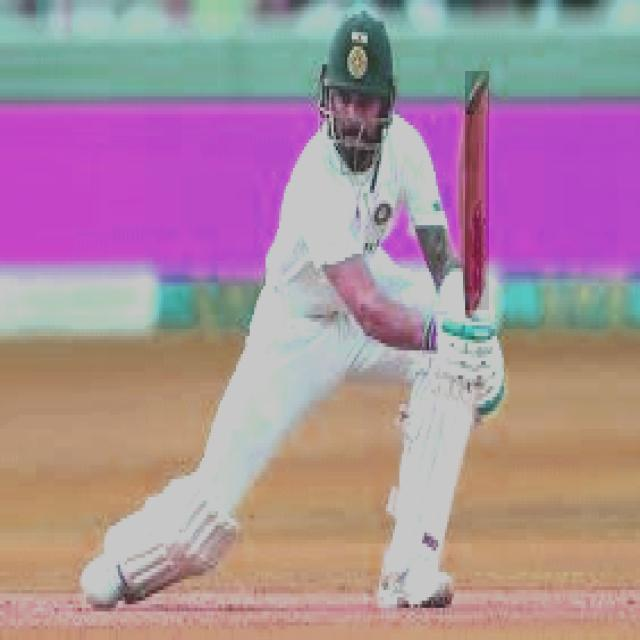bat: (465, 74, 489, 316)
toe: (466, 73, 489, 114)
